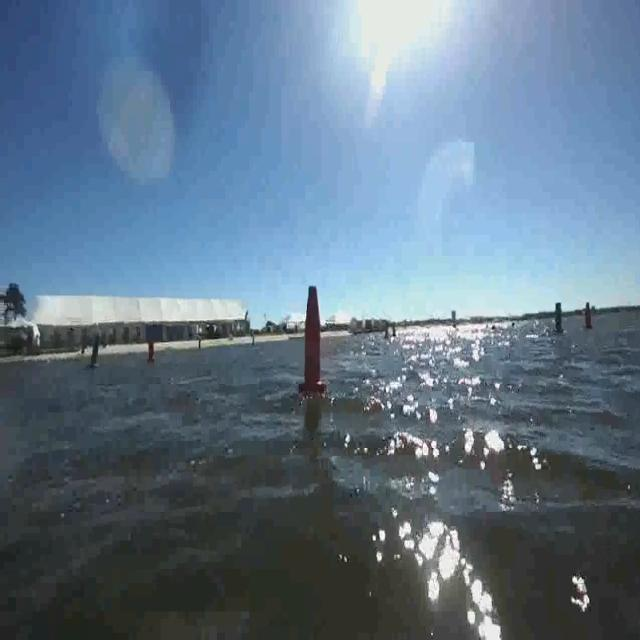green-column-buoy: (88, 332, 104, 372), (554, 301, 566, 335)
red-column-buoy: (298, 282, 328, 399), (581, 301, 593, 329), (147, 339, 156, 365)
